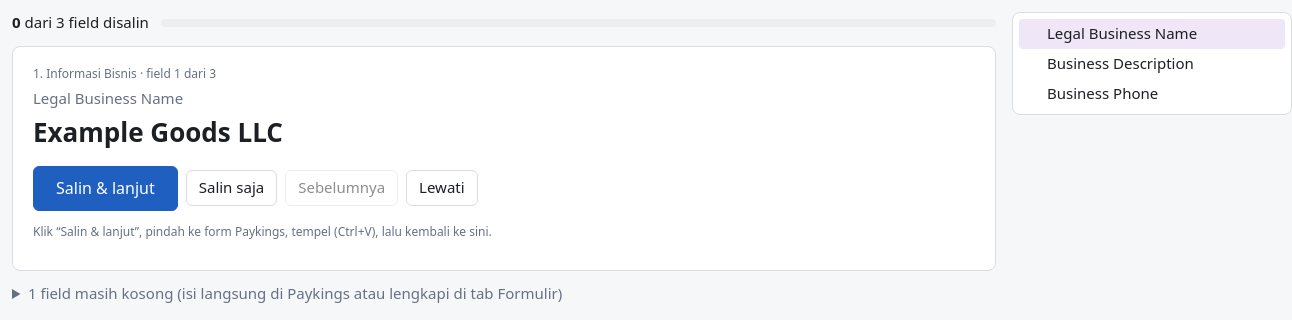
Test: Mode isi form › skip leaves a field unmarked
The width and height of the screenshot is (1292, 320).
What coordinates should you click on to do the following:
click the button "Lewati"
I would click on:
 (442, 188)
Its box is [406,170,478,206].
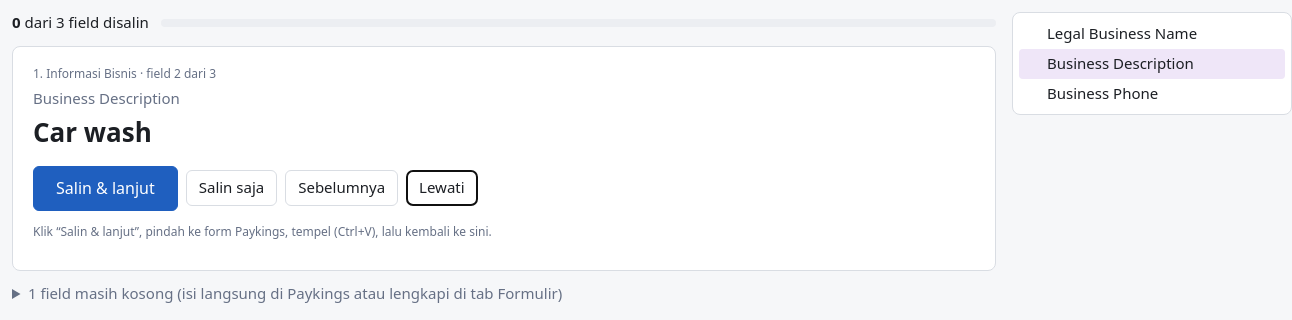
Check: the text named "Nilai saat ini" reads "Car wash", box [33,114,152,150]
